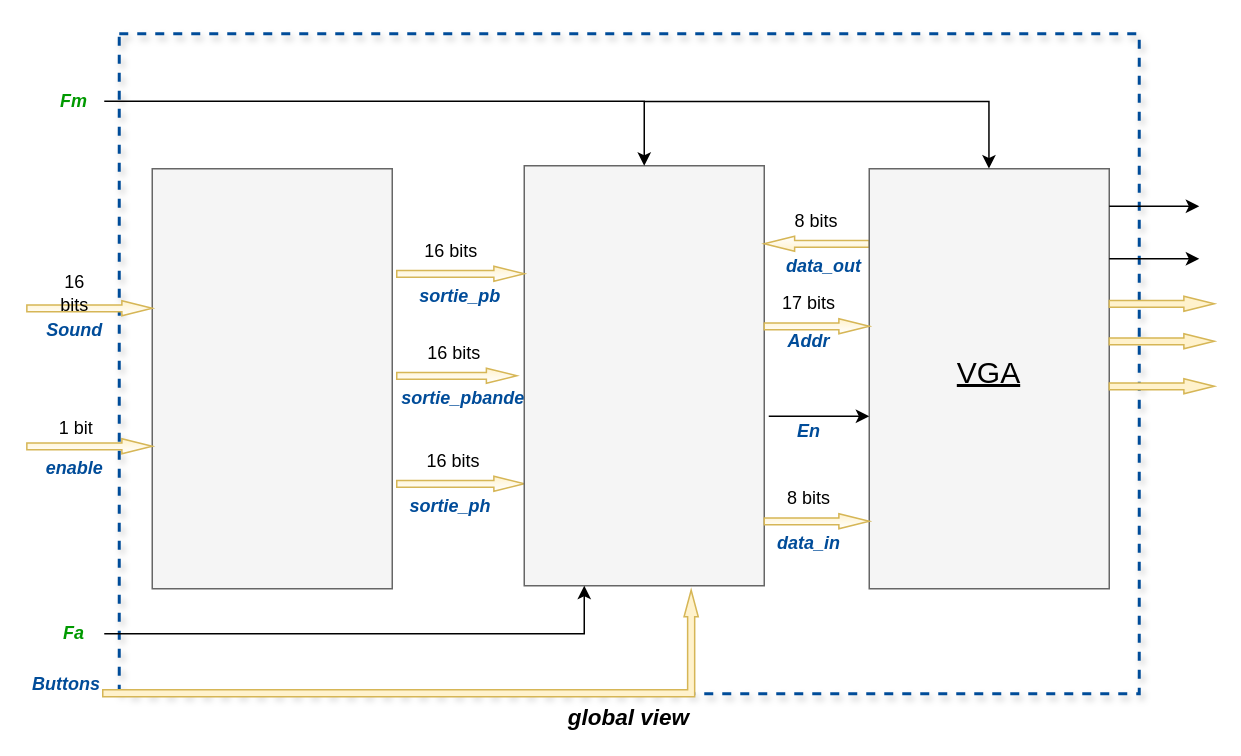
This 1241x756 diagram has some shape labels left out. The shapes that lost their labels are listed below. From the top down, each one's centre as x and y in pixels, then its label:
pixel 271 378: DSP
pixel 643 375: Visu
